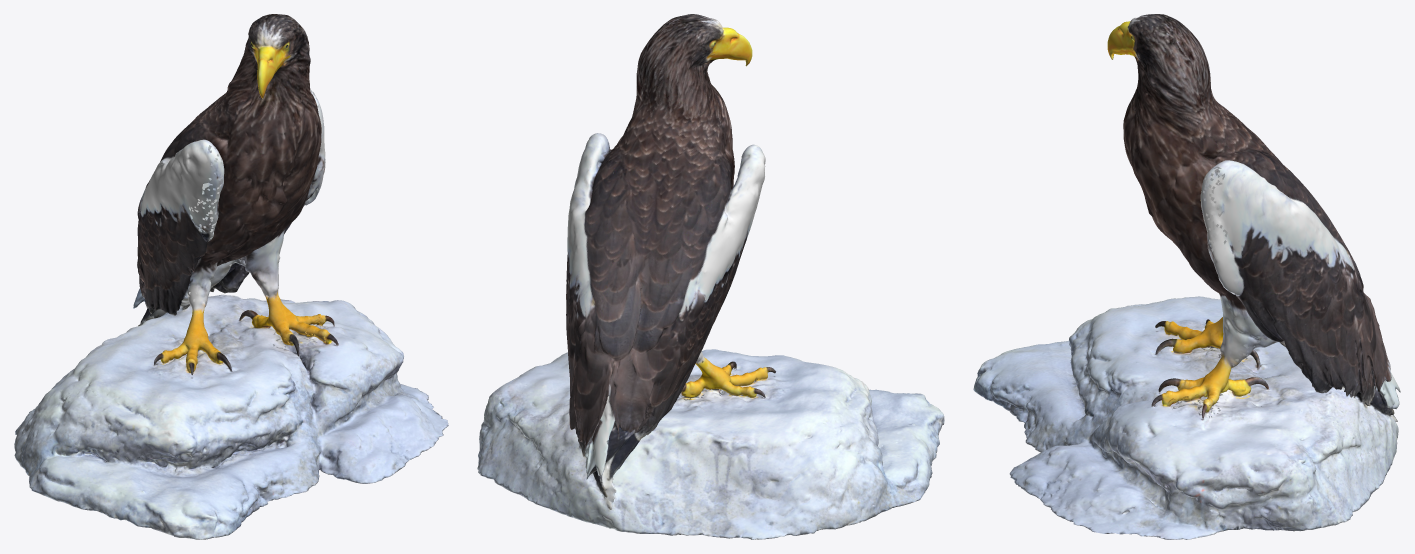
File: Steller's sea-eagle.glb
The picture shows the model from 3 angles, left to right: view 1: azimuth 30°, elevation 25°; view 2: azimuth 150°, elevation 25°; view 3: azimuth 270°, elevation 25°; orthographic projection. The views are drawn at different scales.
Parts seen in each view (by area): view 1: Fix_obj_re2_Final_Mobile; view 2: Fix_obj_re2_Final_Mobile; view 3: Fix_obj_re2_Final_Mobile.
Part boxes in pixels (x1,y1,x2,y2): Fix_obj_re2_Final_Mobile: (14,14,448,539); Fix_obj_re2_Final_Mobile: (477,14,944,539); Fix_obj_re2_Final_Mobile: (973,14,1400,539).
Size of the model in its own units: 1.18 by 1.2 by 1.05.
1 material, 1 textured.
